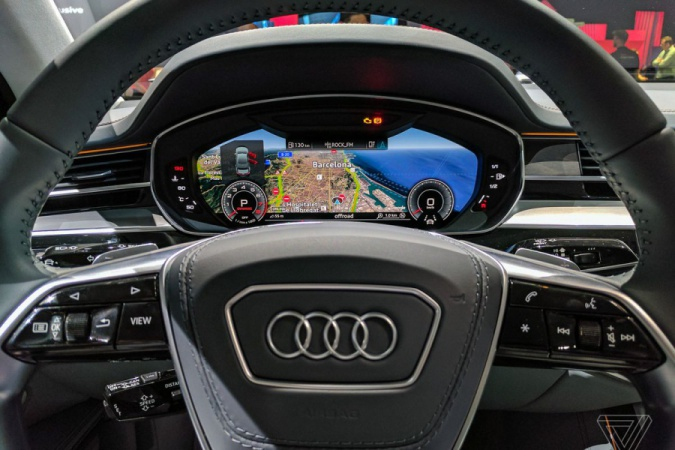audi: (255, 303, 403, 365)
